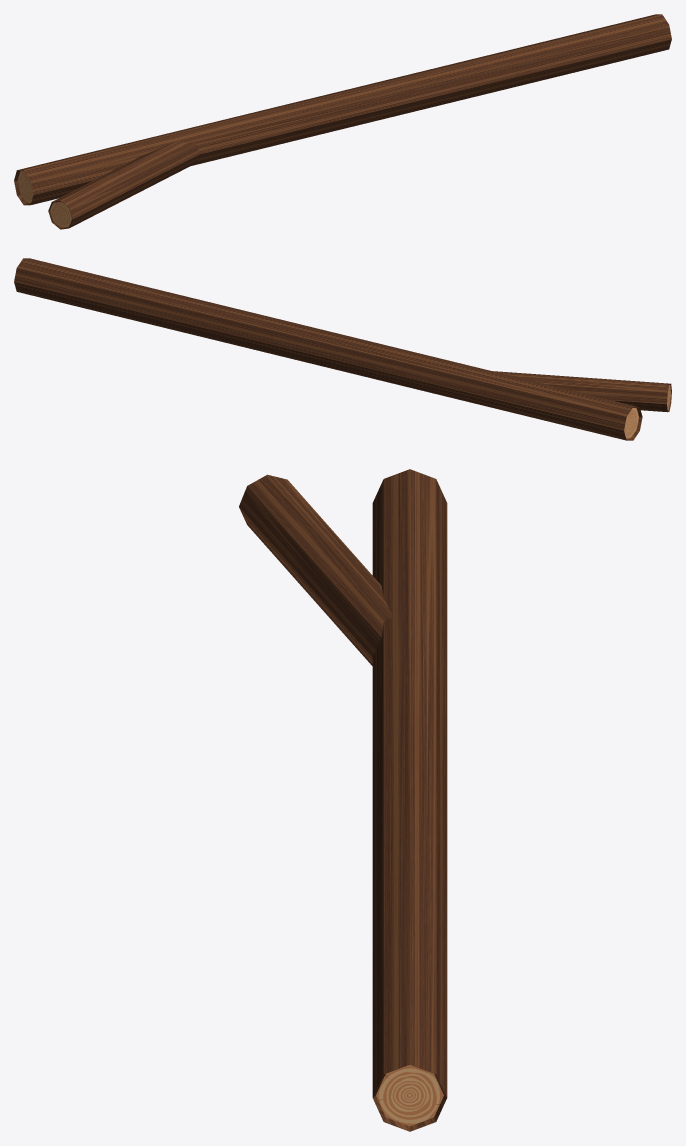
File: Stick 1.fbx
The picture shows the model from 3 angles, top to bottom: view 1: azimuth 30°, elevation 25°; view 2: azimuth 150°, elevation 25°; view 3: azimuth 270°, elevation 25°; orthographic projection. The views are drawn at different scales.
Visible parts, largest first — view 1: Stick3; view 2: Stick3; view 3: Stick3.
Part boxes in pixels (x1=…): Stick3: x1=14, y1=14, x2=671, y2=229; Stick3: x1=14, y1=258, x2=671, y2=440; Stick3: x1=239, y1=469, x2=447, y2=1131.
Size of the model in its own units: 69.33 by 3.63 by 10.17.
